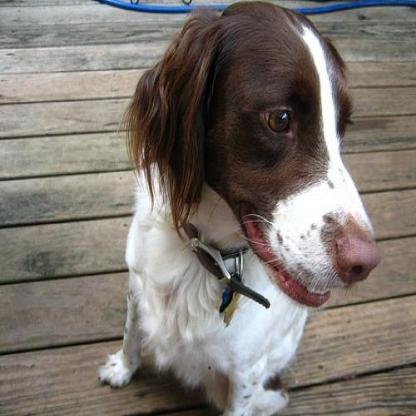Brittany_spaniel: (96, 0, 382, 414)
